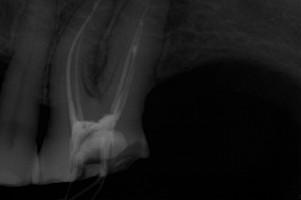Furcation Involvement: (164, 0, 193, 36)
